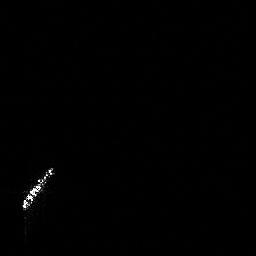ship: (16, 163, 58, 214)
